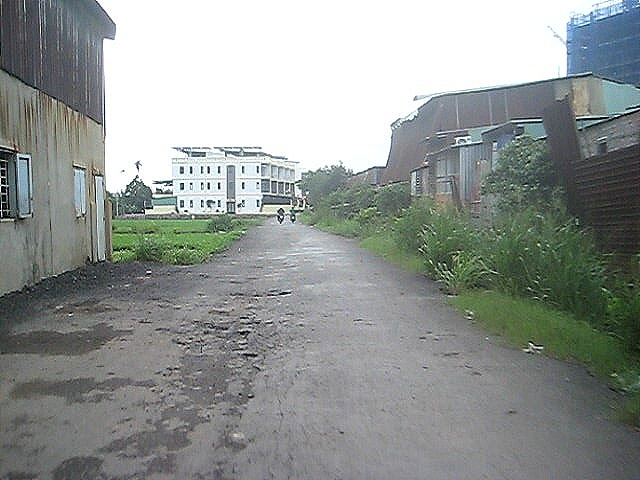hole: (231, 288, 294, 298), (234, 351, 264, 370), (200, 321, 229, 336), (176, 338, 208, 351), (237, 313, 272, 324), (236, 327, 252, 351)
